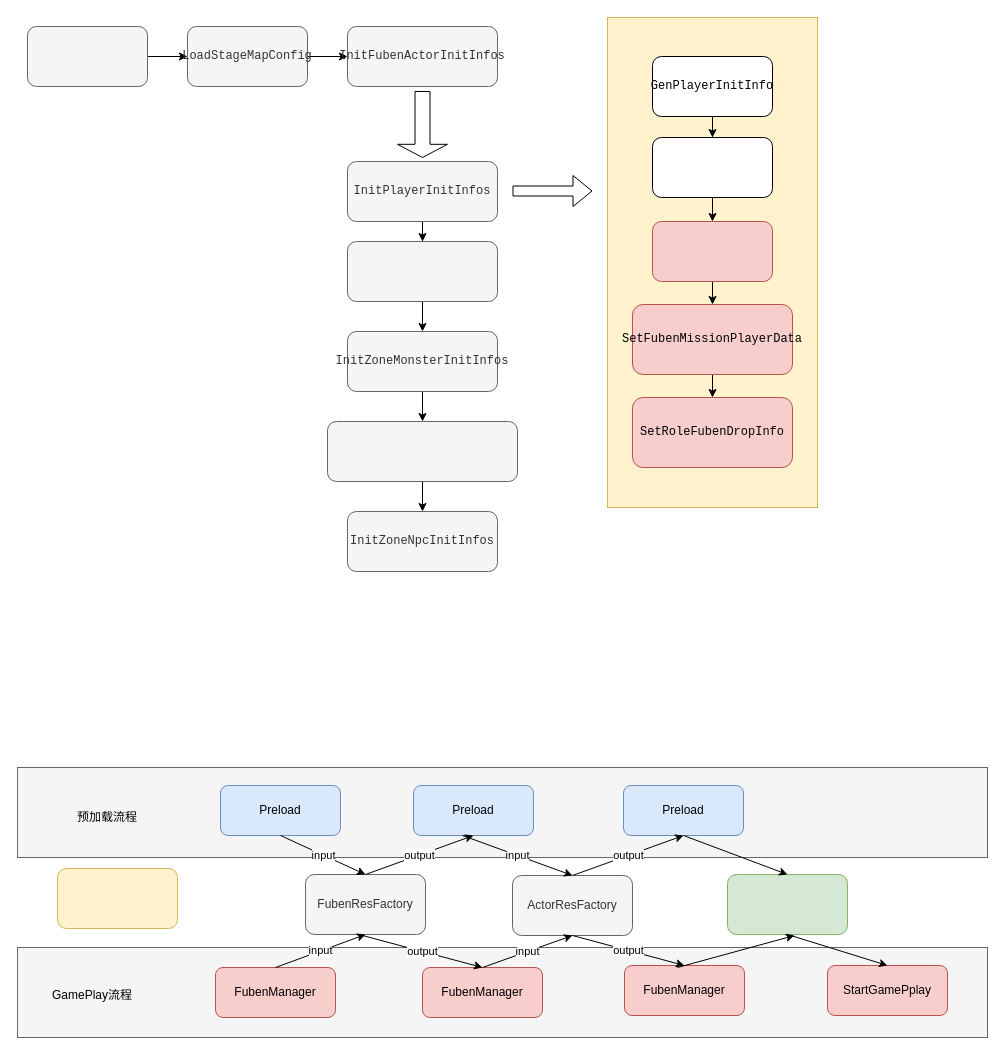
This 1005x1055 diagram has some shape labels left out. The shapes that lost their labels are listed below. From the top down, each one's centre as x and y in pixels, then its label:
point (87, 56): LoadFuben
point (422, 124): 包 含
point (712, 167): GenMonsterInitInfo
point (422, 271): InitObserverInitInfos
point (712, 251): SetFubenMissionData
point (422, 451): InitZonePassiveObjectInitInfos
point (117, 898): Helper
point (787, 904): ResourceLoader
